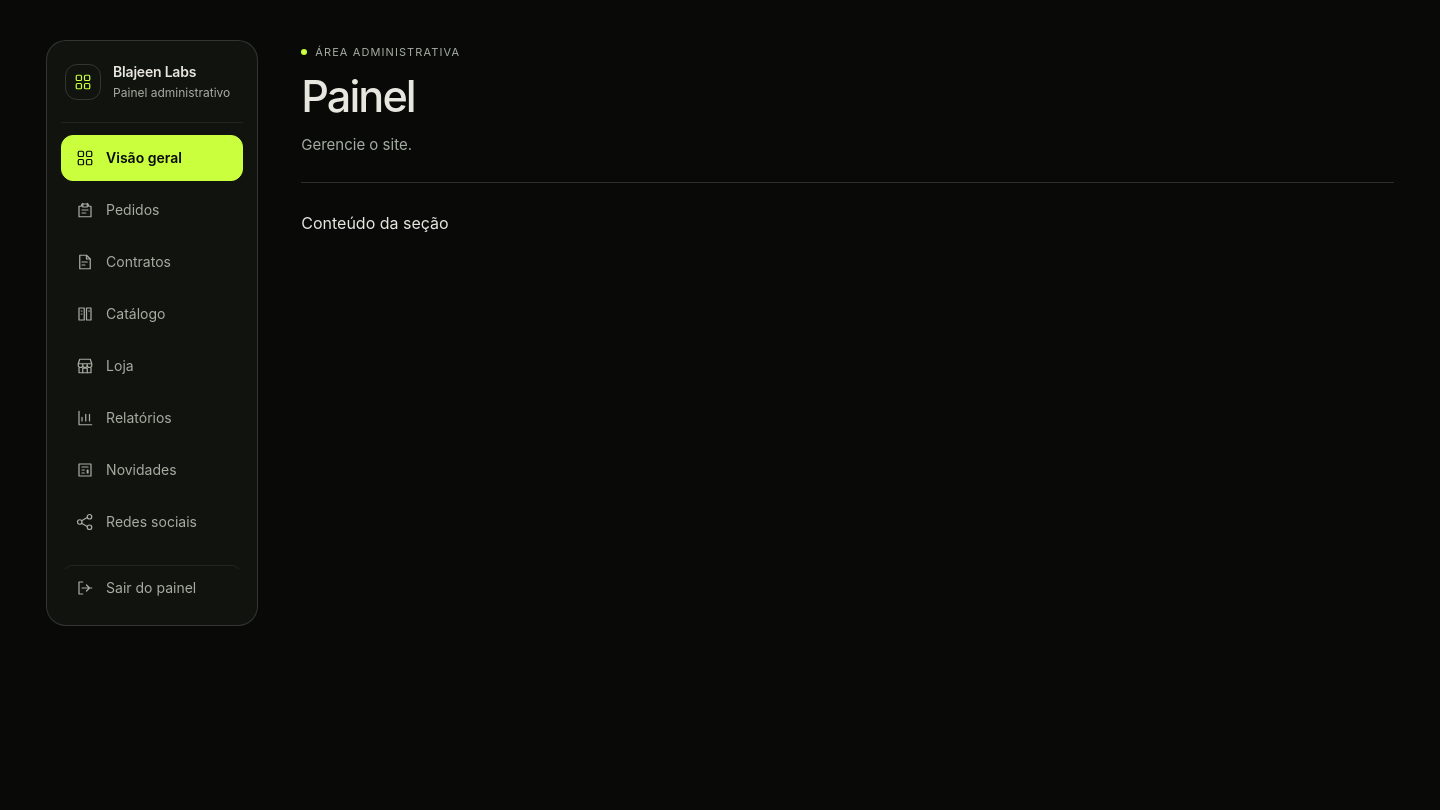
Test: saída do painel › permanece no painel e permite tentar novamente em falha http
Click the button "Sair do painel" at (152, 588), box [61,565,243,611]
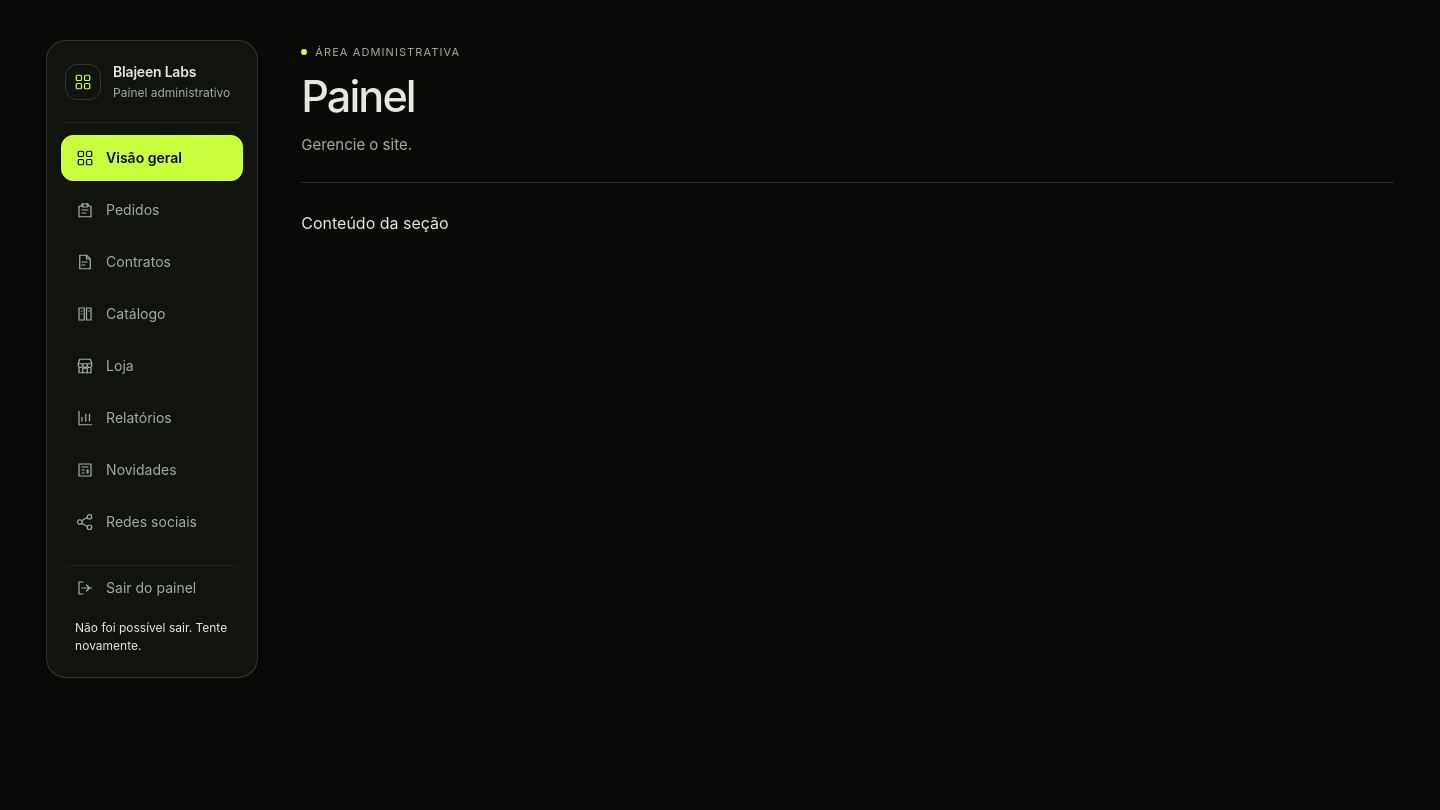
Expected: the text "Conteúdo da seção" is shown, [301,212,449,232]
Result: the message reads "Não foi possível sair. Tente novamente." at [75,620,227,653]
